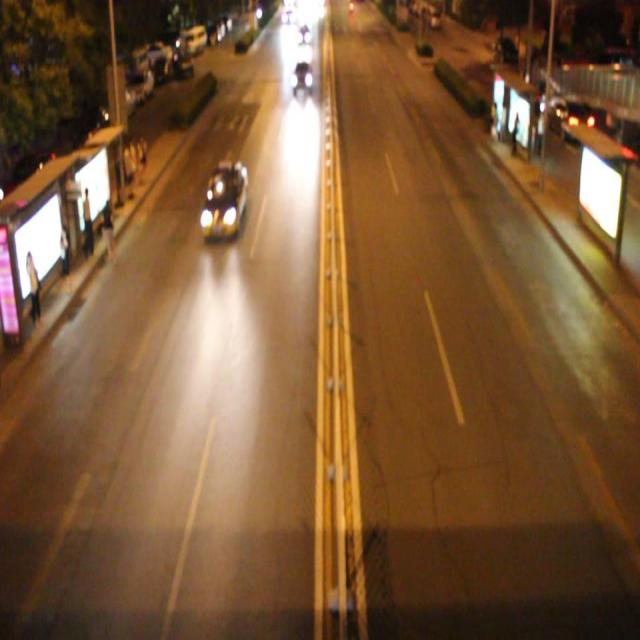car: (198, 161, 246, 235), (290, 56, 312, 89)
